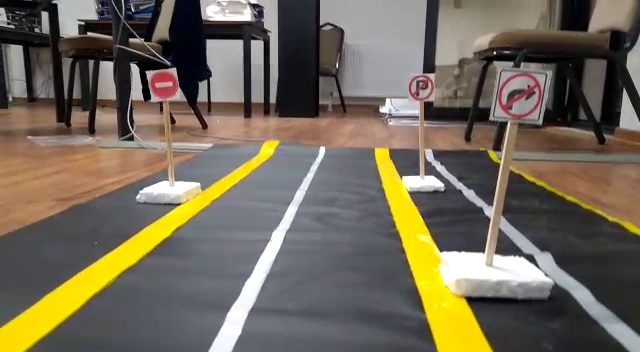girisi_olmayan_yol: (148, 69, 179, 103)
park_yapilmaz: (408, 74, 436, 102)
saga_donulmez: (494, 70, 543, 121)
